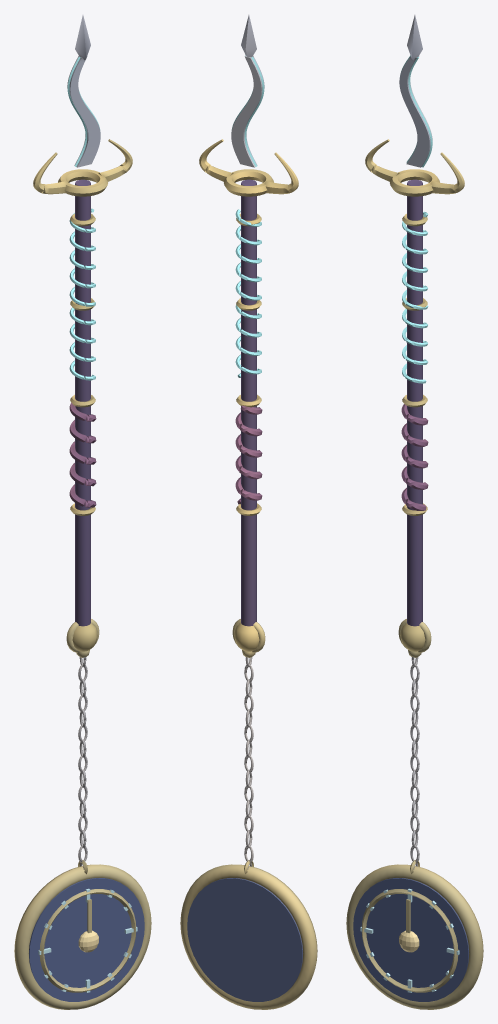
Rendered from weapons2.glb.
3 renders of one model, left to right at view 1: azimuth 30°, elevation 25°; view 2: azimuth 150°, elevation 25°; view 3: azimuth 330°, elevation 25°, orthographic.
Parts seen in each view (by area): view 1: bob, lance_mesh, chain, shield_grip; view 2: bob, lance_mesh, chain, shield_grip; view 3: bob, lance_mesh, chain, shield_grip.
Part boxes in pixels (left/top/right/bottom): bob: left=14, top=860, right=151, bottom=1009; lance_mesh: left=33, top=15, right=132, bottom=651; chain: left=78, top=657, right=87, bottom=869; shield_grip: left=66, top=619, right=99, bottom=657; bob: left=180, top=860, right=317, bottom=1009; lance_mesh: left=199, top=15, right=298, bottom=651; chain: left=244, top=657, right=253, bottom=869; shield_grip: left=232, top=619, right=265, bottom=657; bob: left=346, top=860, right=483, bottom=1009; lance_mesh: left=365, top=15, right=464, bottom=651; chain: left=410, top=657, right=419, bottom=869; shield_grip: left=398, top=619, right=431, bottom=657.
Bounding box in the file's own units: 0.47 × 3.29 × 0.152.
